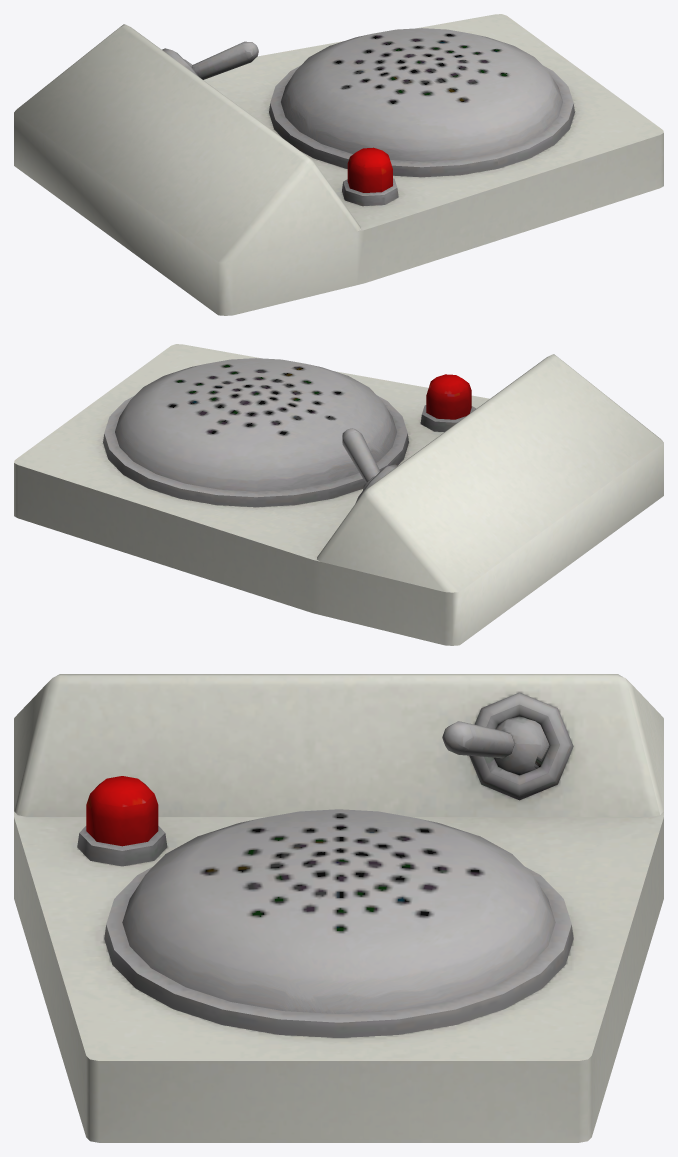
File: props_spytech_intercom.glb
3 renders of one model, top to bottom at view 1: azimuth 30°, elevation 25°; view 2: azimuth 150°, elevation 25°; view 3: azimuth 270°, elevation 25°, orthographic. The views are drawn at different scales.
Visible parts, largest first — view 1: models/props_spytech/intercom; view 2: models/props_spytech/intercom; view 3: models/props_spytech/intercom.
Boxes of the visible parts, box(x1,y1,x2,y2) form: models/props_spytech/intercom: box(14, 14, 663, 315); models/props_spytech/intercom: box(14, 344, 663, 645); models/props_spytech/intercom: box(14, 674, 663, 1142).
Bounding box in the file's own units: 23 × 5.98 × 18.
1 material, 1 textured.
